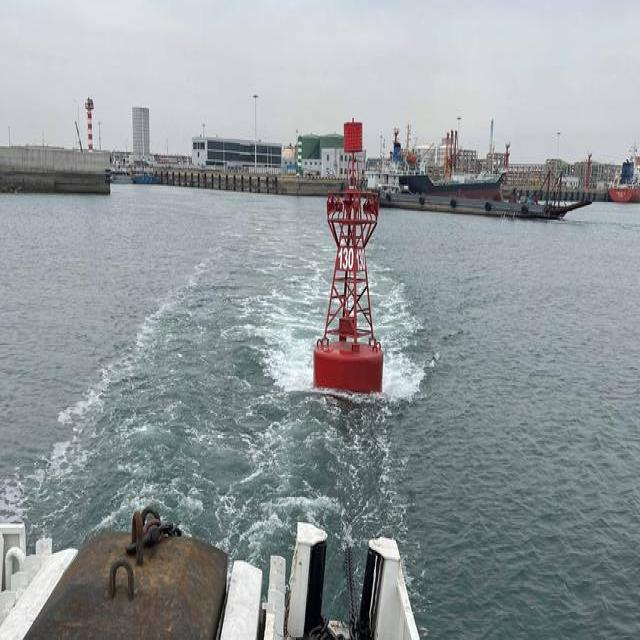buoy: (310, 116, 383, 398)
